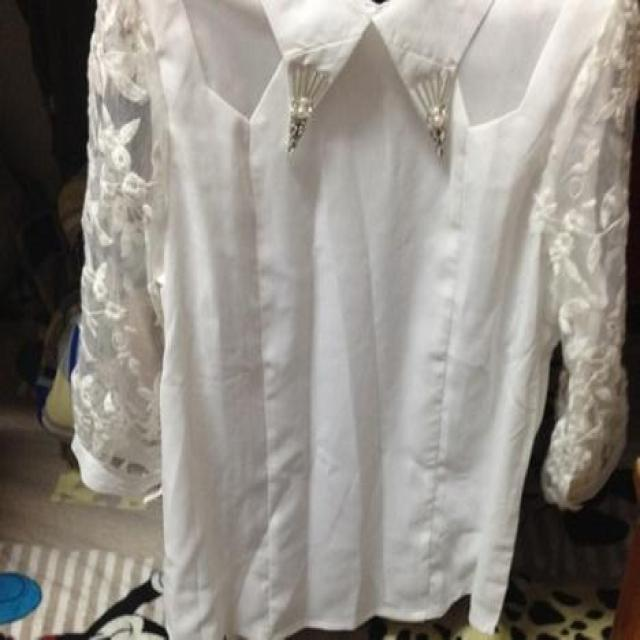long sleeve top: (71, 2, 633, 635)
